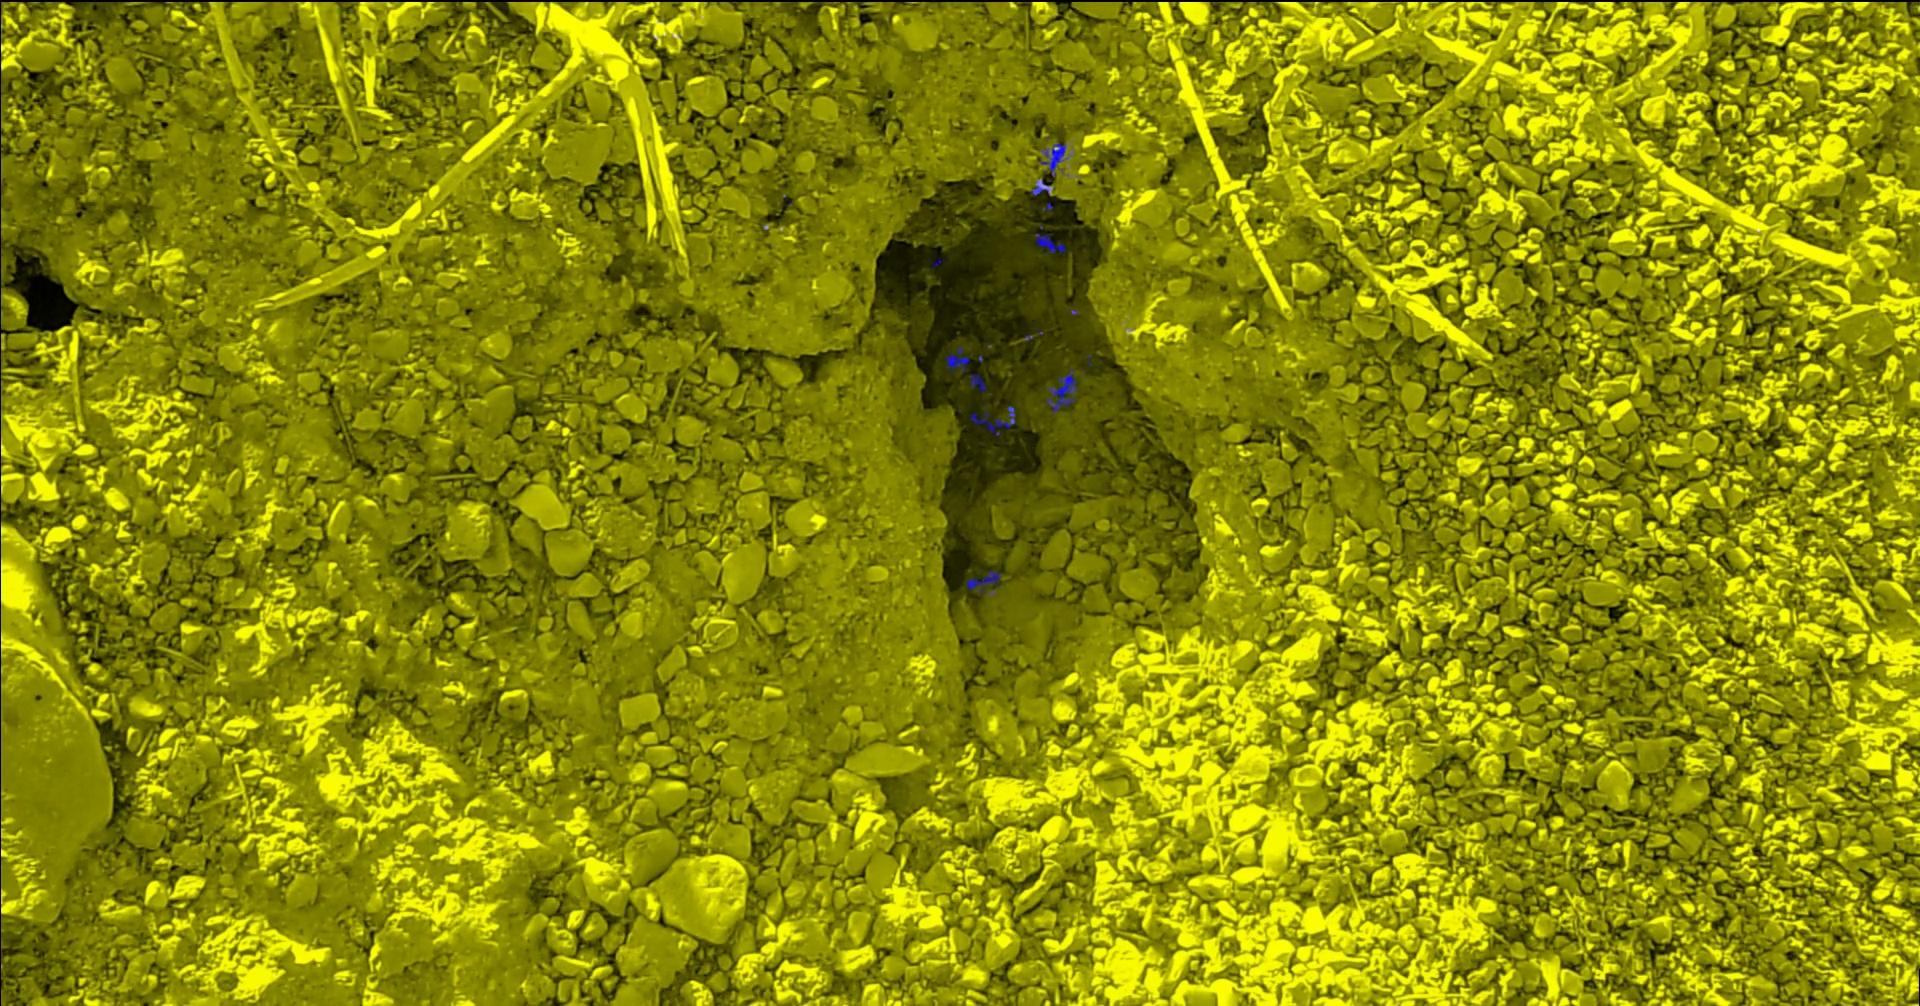ant: (1045, 367, 1076, 414), (968, 405, 1015, 434), (1039, 142, 1067, 177), (966, 569, 1001, 593), (1034, 232, 1065, 253), (943, 345, 969, 371), (1031, 179, 1051, 196), (969, 373, 985, 392)
